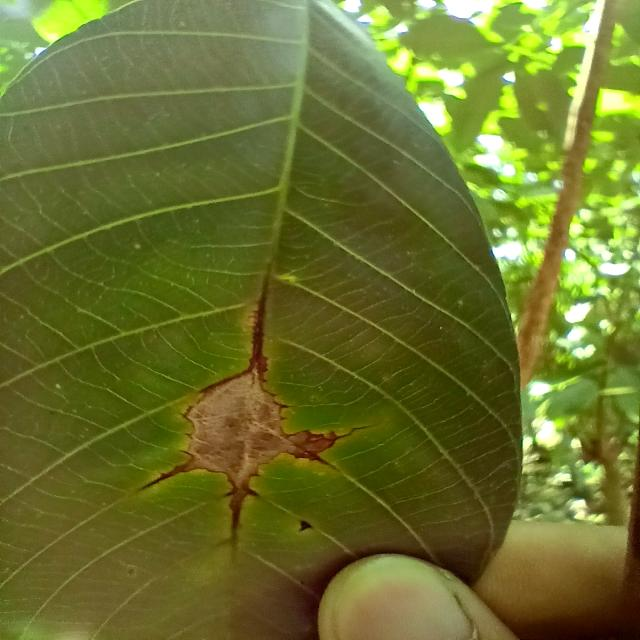Corynespora: (197, 273, 270, 392), (220, 487, 260, 545), (136, 463, 188, 492), (300, 450, 339, 470)
Leaf-Blight: (185, 369, 338, 486)
